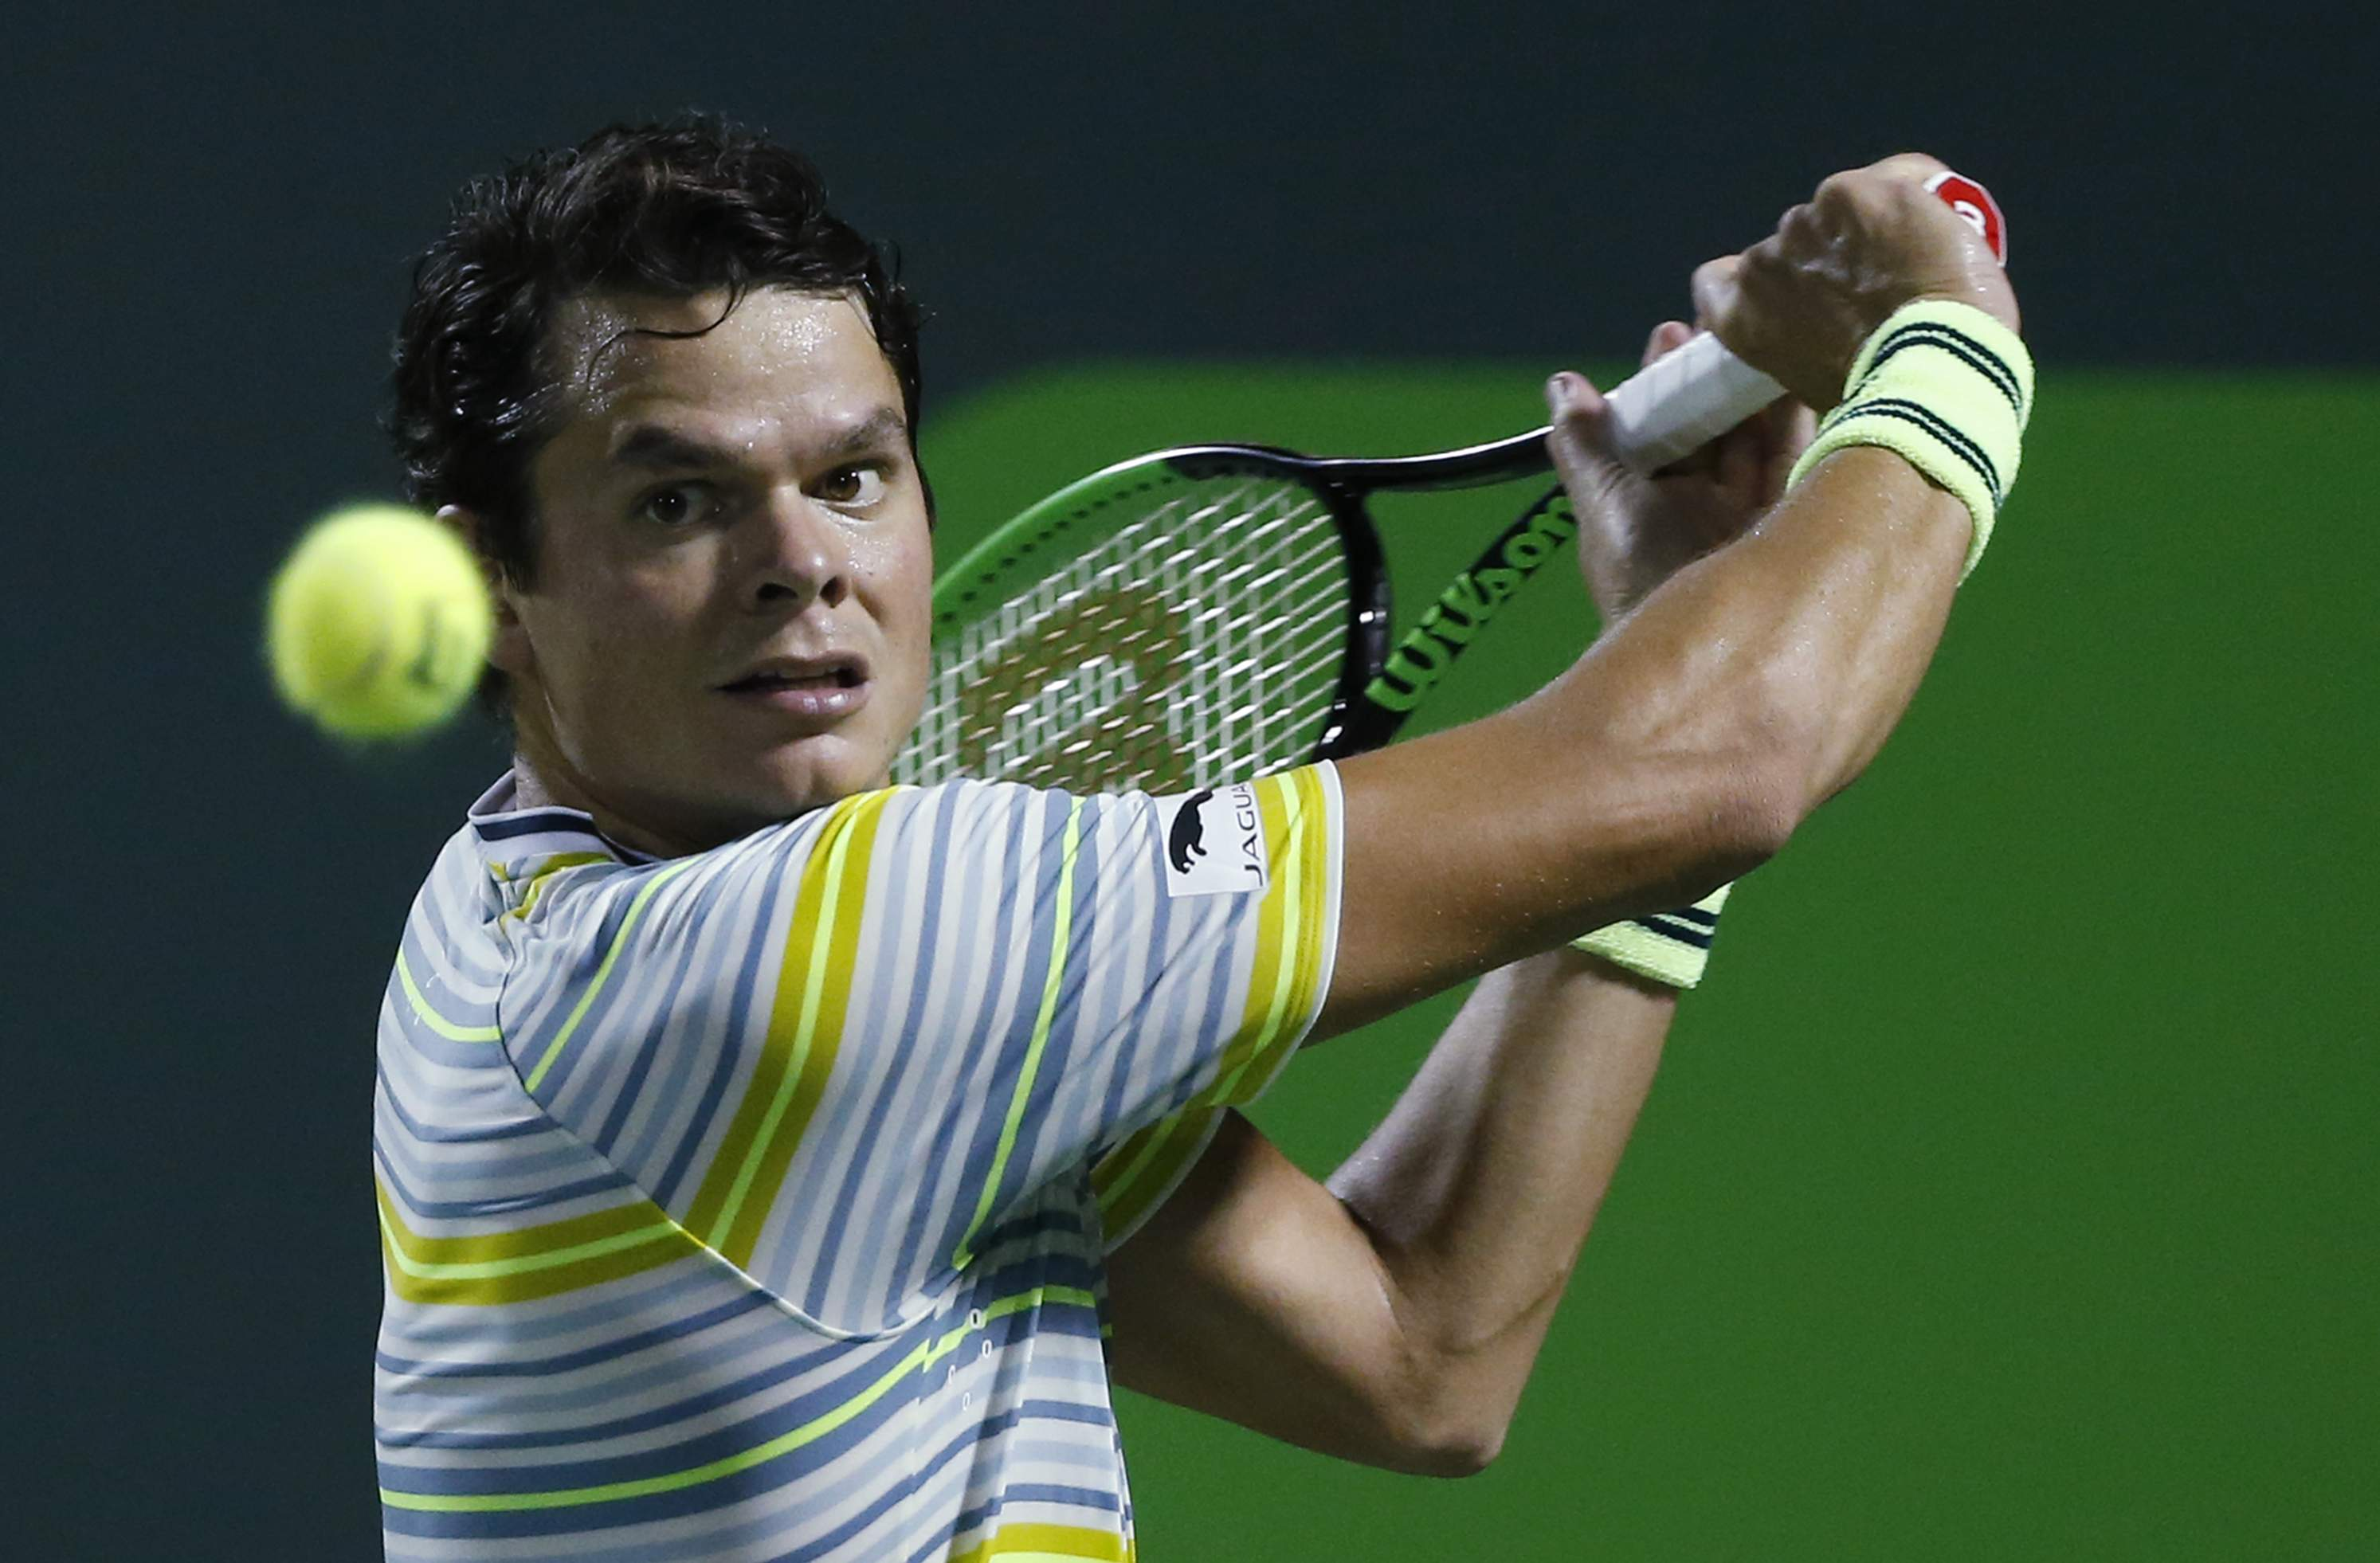tennis ball: (249, 496, 495, 744)
tennis player: (320, 107, 2041, 1563)
